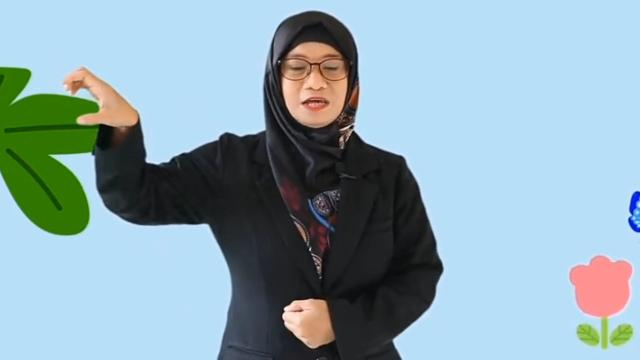C: (62, 66, 136, 127)
